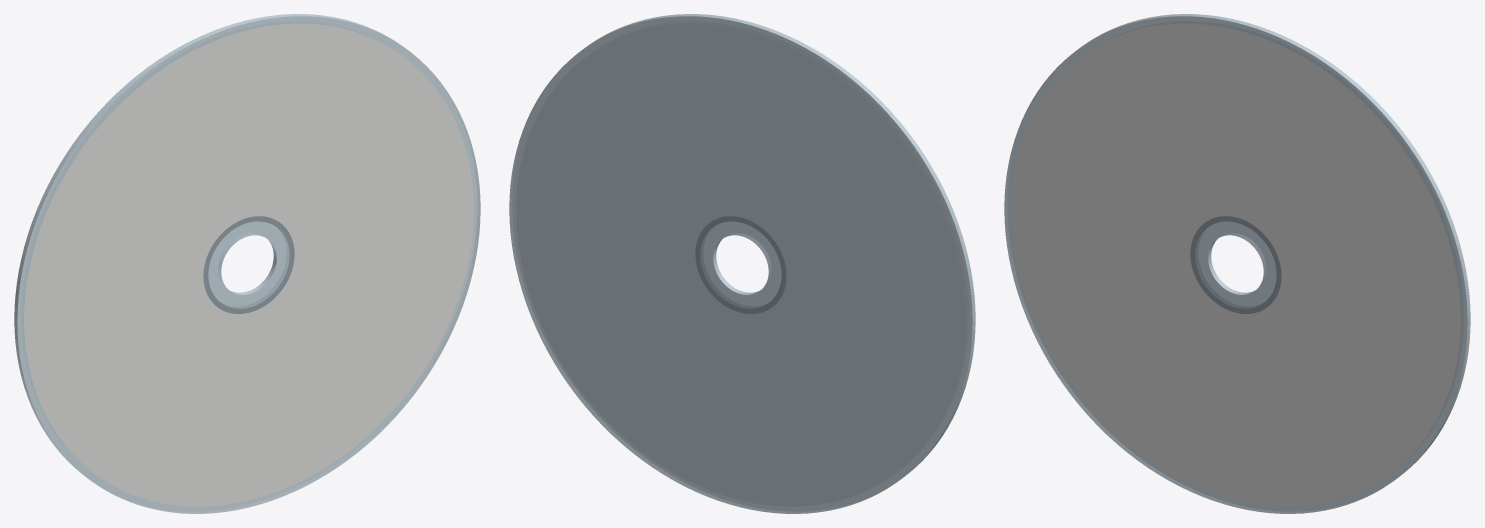
The model's file is ps3-media.glb.
The picture shows the model from 3 angles, left to right: view 1: azimuth 30°, elevation 25°; view 2: azimuth 150°, elevation 25°; view 3: azimuth 330°, elevation 25°; orthographic projection.
Parts seen in each view (by area): view 1: Optical disc single closed surface; view 2: Optical disc single closed surface; view 3: Optical disc single closed surface.
Part boxes in pixels (<box>): Optical disc single closed surface: <box>14,14,480,513</box>; Optical disc single closed surface: <box>509,14,975,513</box>; Optical disc single closed surface: <box>1004,14,1470,513</box>.
Bounding box in the file's own units: 1.22 × 1.22 × 0.014.
